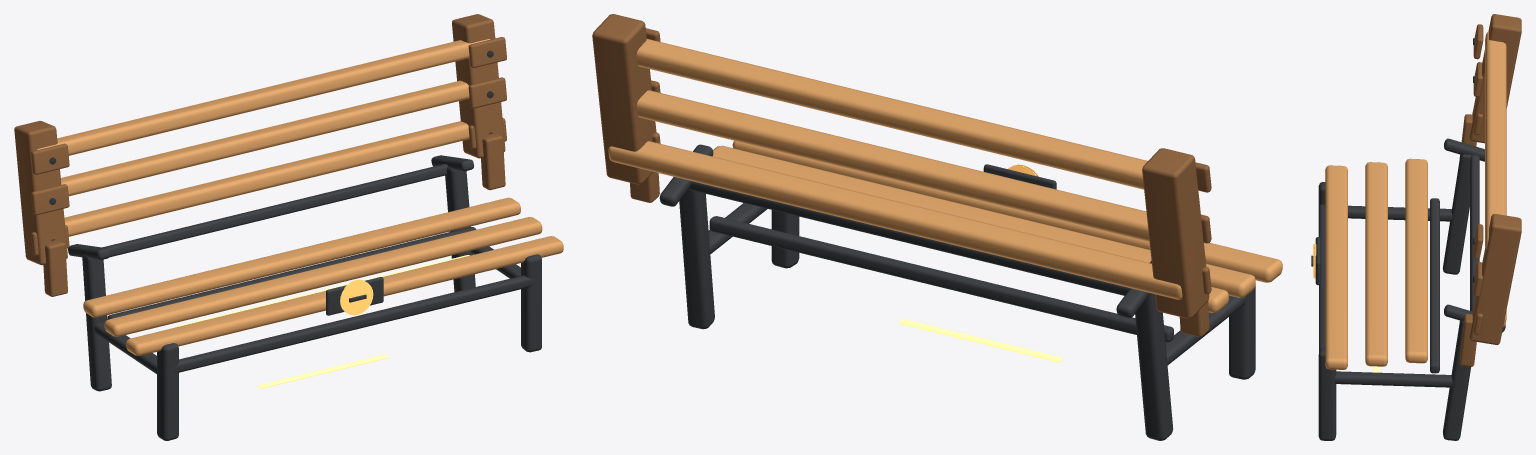
Rendered from rally-venue-bench.glb.
3 renders of one model, left to right at view 1: azimuth 30°, elevation 25°; view 2: azimuth 150°, elevation 25°; view 3: azimuth 270°, elevation 25°, orthographic. The views are drawn at different scales.
Visible parts, largest first — view 1: rally_venue_bench_seat_slat_rear, rally_venue_bench_seat_slat_middle, rally_venue_bench_backrest_slat_top, rally_venue_bench_backrest_slat_middle, rally_venue_bench_backrest_slat_bottom, rally_venue_bench_seat_slat_front, rally_venue_bench_front_underseat_crossbar, rally_venue_bench_back_lower_support_crossbar, rally_venue_bench_backrest_left_holder, rally_venue_bench_backrest_right_holder, rally_venue_bench_rear_leg_graphite, rally_venue_bench_front_leg_graphite (+14 smaller); view 2: rally_venue_bench_backrest_slat_bottom, rally_venue_bench_backrest_slat_middle, rally_venue_bench_backrest_slat_top, rally_venue_bench_backrest_left_holder, rally_venue_bench_rear_underseat_crossbar, rally_venue_bench_seat_slat_middle, rally_venue_bench_backrest_right_holder, rally_venue_bench_seat_slat_front, rally_venue_bench_back_lower_support_crossbar, rally_venue_bench_rear_leg_graphite, rally_venue_bench_rear_leg_graphite.001, rally_venue_bench_front_leg_graphite (+7 smaller); view 3: rally_venue_bench_seat_slat_middle, rally_venue_bench_seat_slat_front, rally_venue_bench_seat_slat_rear, rally_venue_bench_backrest_right_holder, rally_venue_bench_backrest_slat_top, rally_venue_bench_backrest_left_holder, rally_venue_bench_rear_leg_graphite, rally_venue_bench_rear_underseat_crossbar, rally_venue_bench_rear_leg_graphite.001, rally_venue_bench_low_side_runner_graphite.001, rally_venue_bench_front_leg_graphite.001, rally_venue_bench_back_lower_support_crossbar (+11 smaller).
Part boxes in pixels (bbox=[...]): rally_venue_bench_seat_slat_rear: bbox=[83, 197, 520, 317]; rally_venue_bench_seat_slat_middle: bbox=[104, 217, 542, 336]; rally_venue_bench_backrest_slat_top: bbox=[37, 39, 490, 155]; rally_venue_bench_backrest_slat_middle: bbox=[61, 80, 469, 196]; rally_venue_bench_backrest_slat_bottom: bbox=[64, 121, 469, 236]; rally_venue_bench_seat_slat_front: bbox=[126, 236, 563, 355]; rally_venue_bench_front_underseat_crossbar: bbox=[173, 275, 534, 372]; rally_venue_bench_back_lower_support_crossbar: bbox=[102, 164, 447, 257]; rally_venue_bench_backrest_left_holder: bbox=[14, 121, 67, 265]; rally_venue_bench_backrest_right_holder: bbox=[452, 14, 505, 158]; rally_venue_bench_rear_leg_graphite: bbox=[82, 255, 111, 391]; rally_venue_bench_front_leg_graphite: bbox=[157, 343, 178, 440]; rally_venue_bench_backrest_slat_bottom: bbox=[608, 141, 1182, 299]; rally_venue_bench_backrest_slat_middle: bbox=[636, 90, 1149, 241]; rally_venue_bench_backrest_slat_top: bbox=[636, 38, 1147, 189]; rally_venue_bench_backrest_left_holder: bbox=[1142, 148, 1209, 318]; rally_venue_bench_rear_underseat_crossbar: bbox=[709, 216, 1173, 342]; rally_venue_bench_seat_slat_middle: bbox=[712, 145, 1255, 297]; rally_venue_bench_backrest_right_holder: bbox=[592, 14, 656, 184]; rally_venue_bench_seat_slat_front: bbox=[732, 140, 1282, 282]; rally_venue_bench_back_lower_support_crossbar: bbox=[688, 181, 1130, 295]; rally_venue_bench_rear_leg_graphite: bbox=[1135, 293, 1173, 440]; rally_venue_bench_rear_leg_graphite.001: bbox=[679, 189, 714, 329]; rally_venue_bench_front_leg_graphite: bbox=[1229, 285, 1255, 379]; rally_venue_bench_seat_slat_middle: bbox=[1365, 162, 1387, 366]; rally_venue_bench_seat_slat_front: bbox=[1325, 165, 1347, 369]; rally_venue_bench_seat_slat_rear: bbox=[1405, 158, 1427, 363]; rally_venue_bench_backrest_right_holder: bbox=[1469, 214, 1521, 344]; rally_venue_bench_backrest_slat_top: bbox=[1485, 31, 1506, 248]; rally_venue_bench_backrest_left_holder: bbox=[1469, 14, 1521, 143]; rally_venue_bench_rear_leg_graphite: bbox=[1442, 154, 1471, 274]; rally_venue_bench_rear_underseat_crossbar: bbox=[1430, 198, 1439, 373]; rally_venue_bench_rear_leg_graphite.001: bbox=[1443, 320, 1470, 440]; rally_venue_bench_low_side_runner_graphite.001: bbox=[1334, 371, 1452, 387]; rally_venue_bench_front_leg_graphite.001: bbox=[1318, 347, 1336, 440]; rally_venue_bench_back_lower_support_crossbar: bbox=[1470, 155, 1479, 311].
Bounding box in the file's own units: 2.81 × 1.44 × 1.16.
